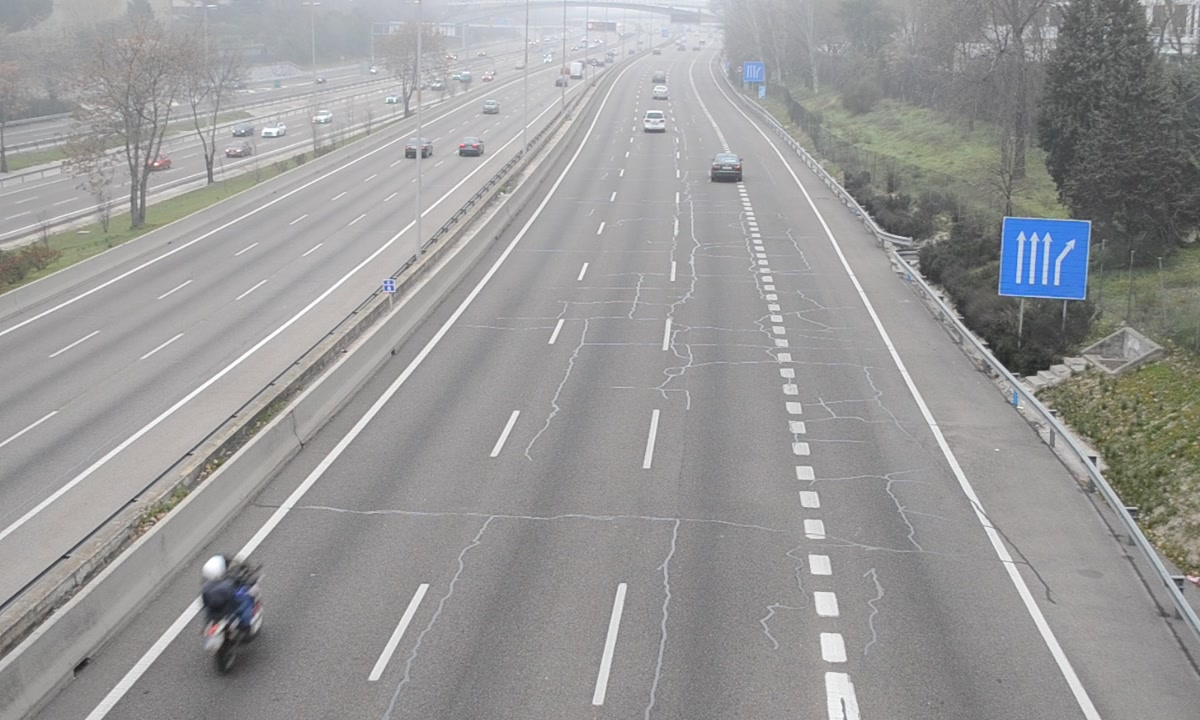car: (710, 152, 743, 183), (642, 110, 668, 134)
motorcycle: (193, 555, 262, 673)
